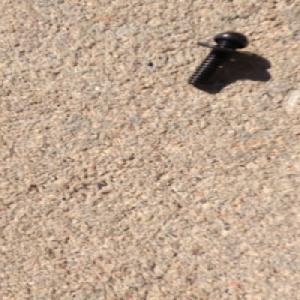BoltWasher: (184, 30, 250, 87)
